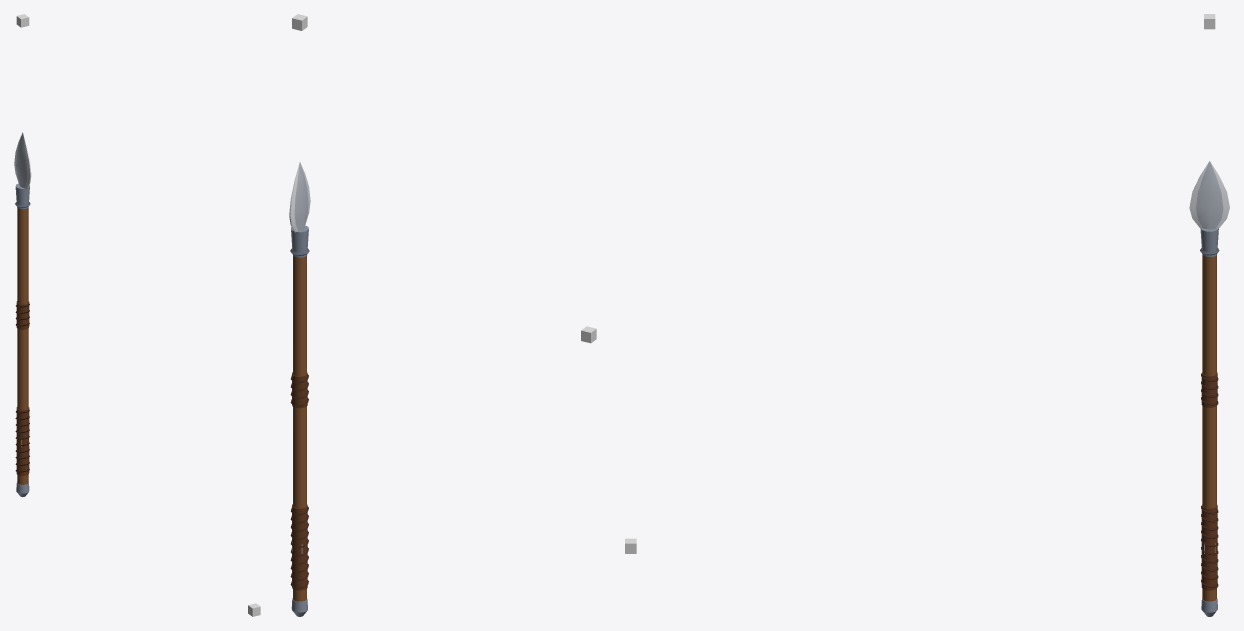
The model's file is Spear.fbx.
The picture shows the model from 3 angles, left to right: view 1: azimuth 30°, elevation 25°; view 2: azimuth 150°, elevation 25°; view 3: azimuth 270°, elevation 25°; orthographic projection. The views are drawn at different scales.
Visible parts, largest first — view 1: Body; view 2: Body; view 3: Body.
Part boxes in pixels (x1,y1,x2,y2): Body: (14, 132, 31, 497); Body: (289, 162, 310, 616); Body: (1189, 161, 1229, 616).
Bounding box in the file's own units: 0.34 × 11.42 × 10.45.
Materials: 1 (1 with a texture image).
